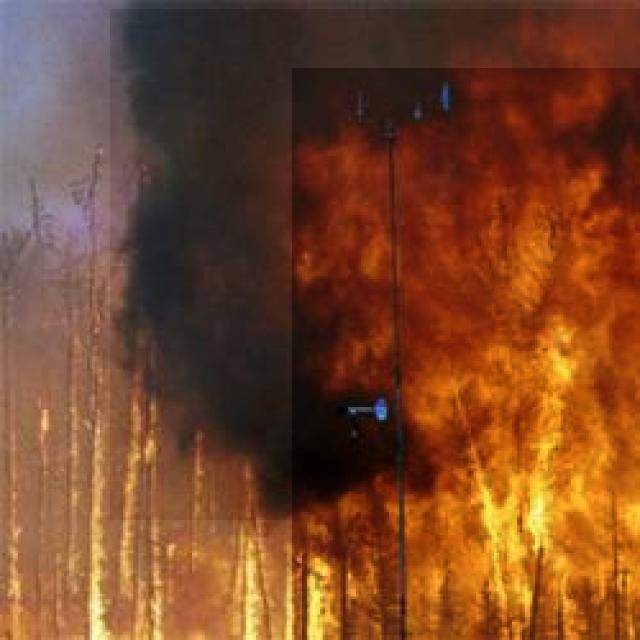Fire: (292, 68, 640, 640)
Smoke: (110, 9, 640, 520)
